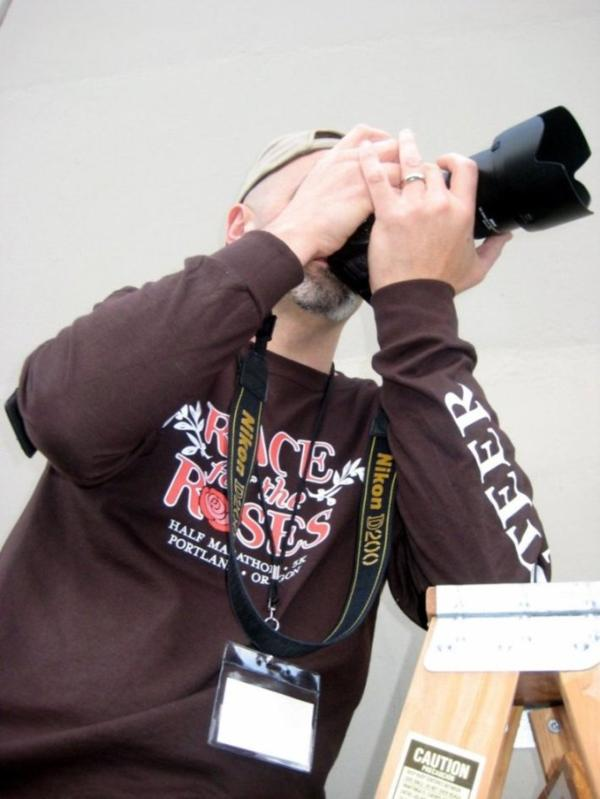person: (3, 123, 552, 799)
